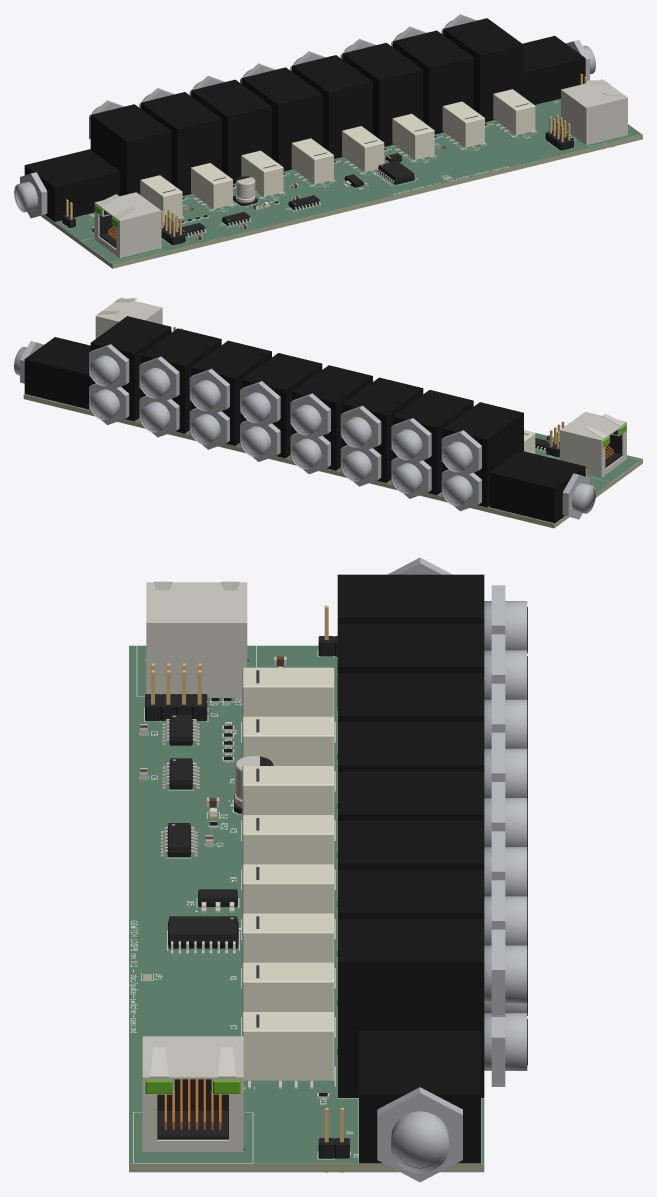
File: gswitch-loop8.glb
The picture shows the model from 3 angles, top to bottom: view 1: azimuth 30°, elevation 25°; view 2: azimuth 150°, elevation 25°; view 3: azimuth 270°, elevation 25°; orthographic projection. The views are drawn at different scales.
Visible parts, largest first — view 1: ACJS_MHD (Shell) (×8), =>[0:1:1:52], =>[0:1:1:50], =>[0:1:1:16] (×8), ACJS_MH (Shell) (×2), =>[0:1:1:28] (×2), =>[0:1:1:30] (×2), =>[0:1:1:49], =>[0:1:1:38], ACJS_MH (Face), =>[0:1:1:46]; view 2: ACJS_MHD (Shell) (×20), ACJS_MHD (Face) (×16), ACJS_MH (Shell) (×2), =>[0:1:1:28] (×2), =>[0:1:1:52], =>[0:1:1:50], ACJS_MH (Face), =>[0:1:1:30]; view 3: ACJS_MHD (Shell) (×8), =>[0:1:1:50], =>[0:1:1:52], =>[0:1:1:16] (×8), =>[0:1:1:28] (×2), ACJS_MH (Shell) (×4), ACJS_MHD (Face) (×9), ACJS_MH (Face), =>[0:1:1:49], =>[0:1:1:38], =>[0:1:1:30], =>[0:1:1:36] (×2) (+2 smaller).
Boxes of the visible parts, x1,y1,x2,y2 form: ACJS_MHD (Shell) (×8): (90, 18, 523, 195); =>[0:1:1:52]: (40, 99, 642, 268); =>[0:1:1:50]: (55, 99, 642, 264); =>[0:1:1:16] (×8): (140, 89, 536, 222); ACJS_MH (Shell) (×2): (24, 36, 585, 221); =>[0:1:1:28] (×2): (94, 79, 627, 257); =>[0:1:1:30] (×2): (161, 114, 573, 245); =>[0:1:1:49]: (55, 99, 641, 262); =>[0:1:1:38]: (375, 161, 417, 185); ACJS_MH (Face): (14, 182, 37, 212); =>[0:1:1:46]: (233, 176, 257, 205); ACJS_MHD (Shell) (×20): (90, 316, 523, 507); ACJS_MHD (Face) (×16): (89, 355, 472, 506); ACJS_MH (Shell) (×2): (24, 337, 585, 523); =>[0:1:1:28] (×2): (95, 297, 626, 477); =>[0:1:1:52]: (23, 394, 642, 528); =>[0:1:1:50]: (24, 394, 642, 523); ACJS_MH (Face): (572, 483, 595, 513); =>[0:1:1:30]: (546, 421, 569, 457); ACJS_MHD (Shell) (×8): (337, 574, 484, 1097); =>[0:1:1:50]: (129, 645, 484, 1163); =>[0:1:1:52]: (129, 646, 484, 1171); =>[0:1:1:16] (×8): (242, 667, 334, 1088); =>[0:1:1:28] (×2): (142, 581, 247, 1151); ACJS_MH (Shell) (×4): (359, 1030, 480, 1182); ACJS_MHD (Face) (×9): (484, 601, 527, 1070); ACJS_MH (Face): (391, 1111, 448, 1173); =>[0:1:1:49]: (129, 645, 483, 1163); =>[0:1:1:38]: (168, 916, 238, 953); =>[0:1:1:30]: (145, 663, 207, 721); =>[0:1:1:36] (×2): (162, 714, 199, 789).
Bounding box in the file's own units: 0.2142 × 0.0297 × 0.0651.
